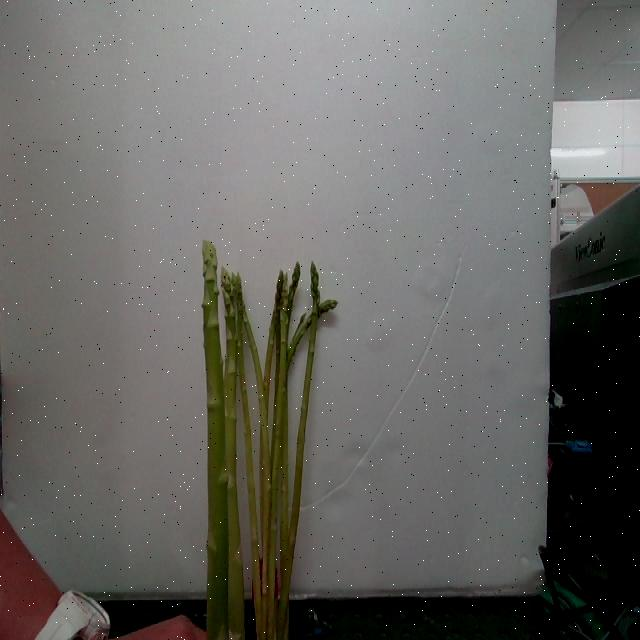aspargus: (202, 246, 336, 640)
